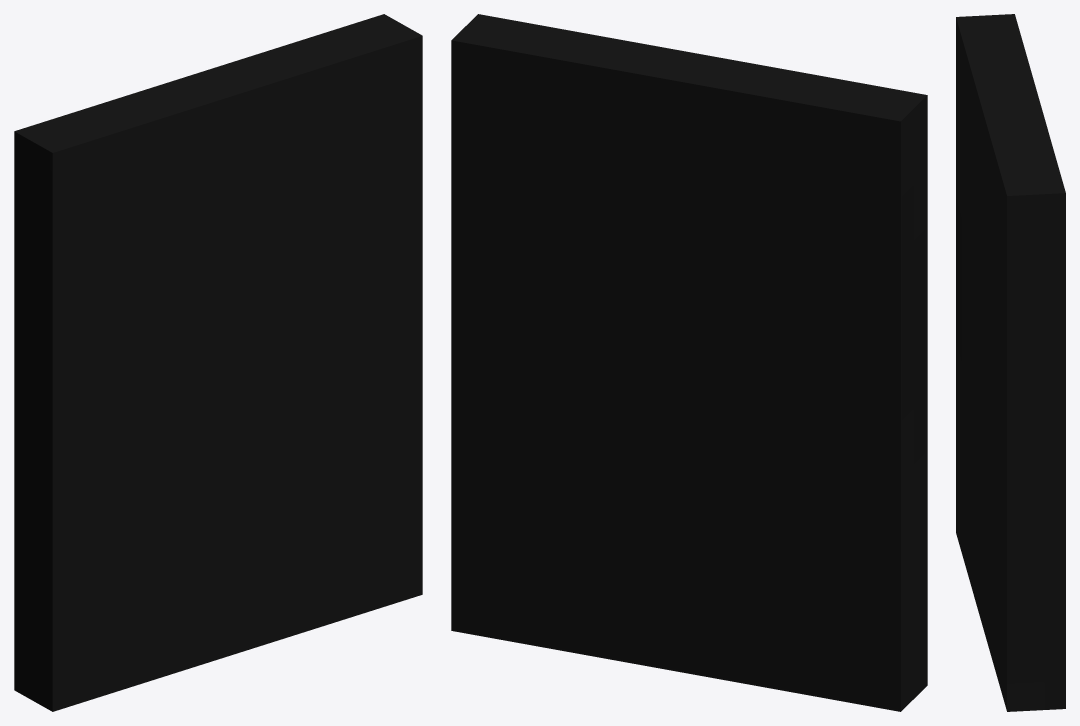
Rendered from support_arm__support_saddle.glb.
3 views of the same model, side by side, from view 1: azimuth 30°, elevation 25°; view 2: azimuth 150°, elevation 25°; view 3: azimuth 270°, elevation 25° (orthographic). The views are drawn at different scales.
Parts seen in each view (by area): view 1: world; view 2: world; view 3: world.
Part boxes in pixels (left/top/right/bottom): world: left=14, top=14, right=422, bottom=711; world: left=451, top=14, right=927, bottom=711; world: left=956, top=14, right=1065, bottom=711.
Bounding box in the file's own units: 0.1817 × 0.24 × 0.0464.
1 material, 1 textured.
